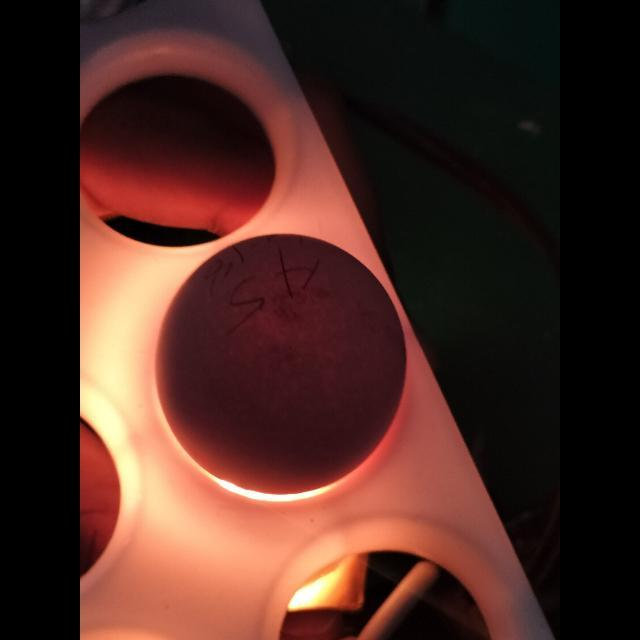B - Fair: (153, 236, 400, 496)
